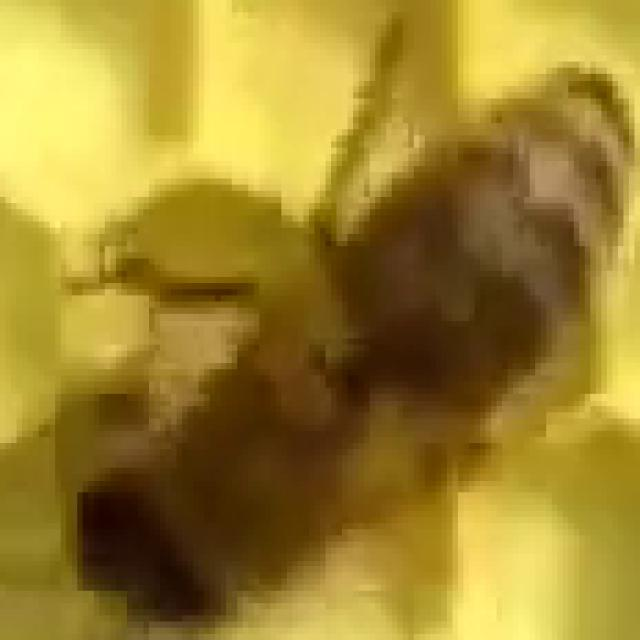honeybee: (76, 66, 628, 604)
